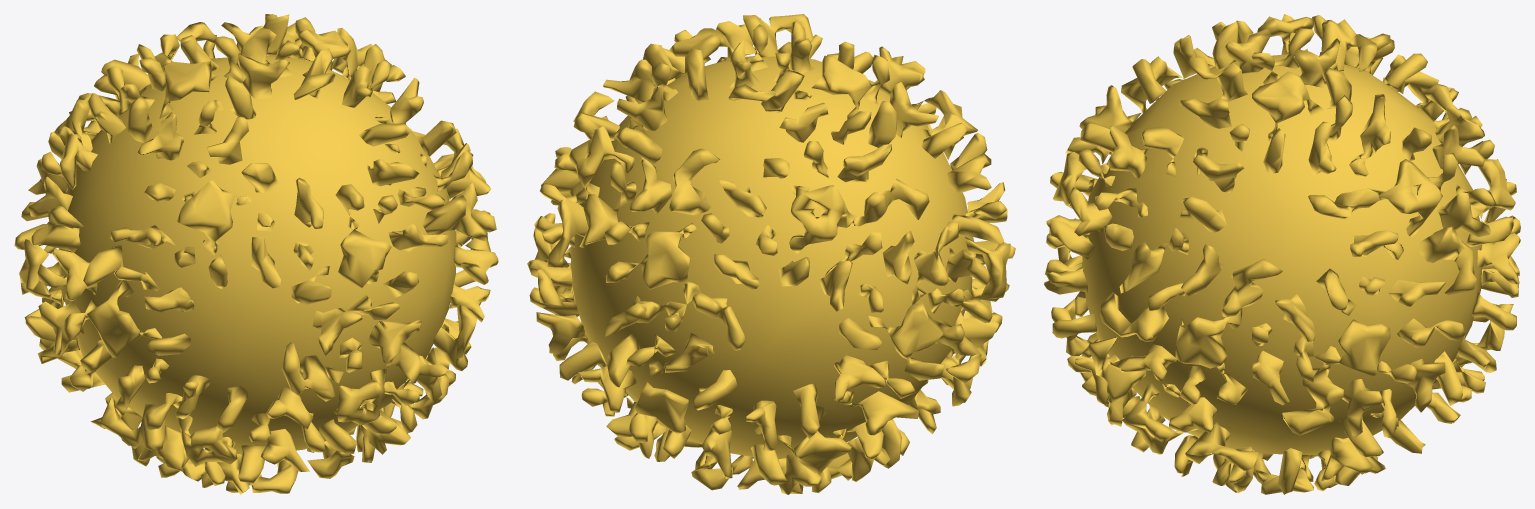
Rendered from hepatite-b.glb.
3 views of the same model, side by side, from view 1: azimuth 30°, elevation 25°; view 2: azimuth 150°, elevation 25°; view 3: azimuth 270°, elevation 25° (orthographic).
Parts seen in each view (by area): view 1: Invólucro; view 2: Invólucro; view 3: Invólucro.
Boxes of the visible parts, left/top/right/bottom form: Invólucro: left=14, top=14, right=498, bottom=494; Invólucro: left=527, top=14, right=1015, bottom=494; Invólucro: left=1044, top=14, right=1520, bottom=494.
Size of the model in its own units: 13088 by 13107 by 13105.
